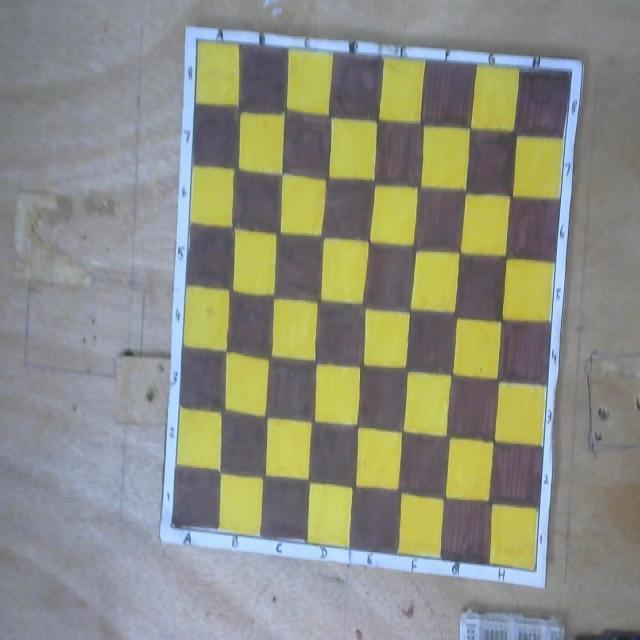chess-table-corners: (170, 522, 176, 530), (194, 37, 200, 43), (569, 68, 573, 74), (533, 568, 538, 572)
